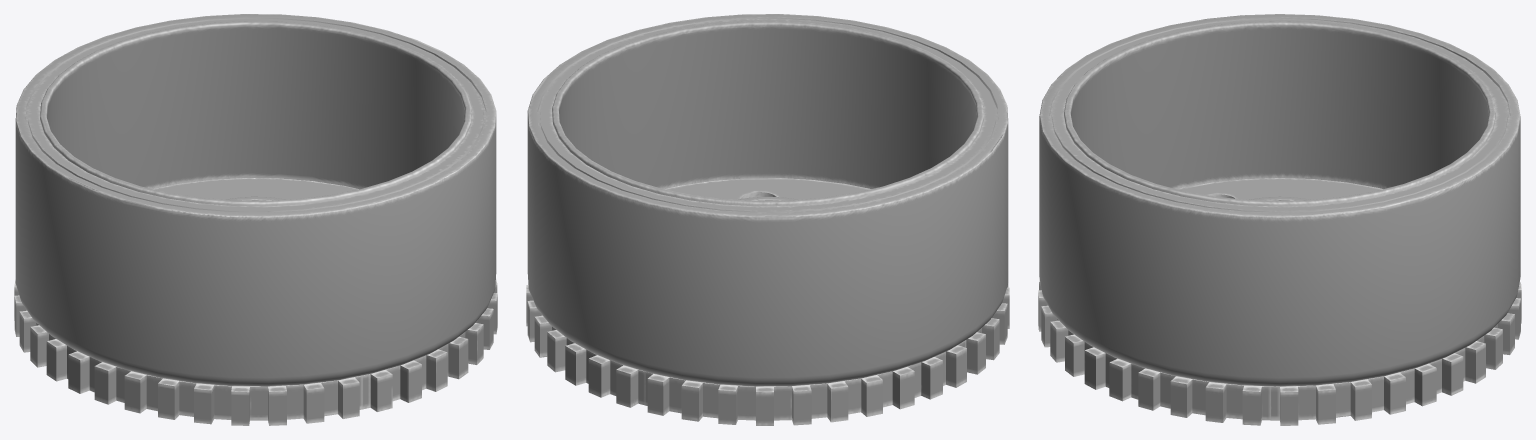
The model's file is flywheel.glb.
The picture shows the model from 3 angles, left to right: view 1: azimuth 30°, elevation 25°; view 2: azimuth 150°, elevation 25°; view 3: azimuth 270°, elevation 25°; orthographic projection.
Visible parts, largest first — view 1: magnet; view 2: magnet; view 3: magnet.
Boxes of the visible parts, <box> form: magnet: <box>14,14,497,425</box>; magnet: <box>526,14,1009,425</box>; magnet: <box>1038,14,1521,425</box>.
Size of the model in its own units: 0.6448 by 0.3132 by 0.6448.
Materials: 1 (1 with a texture image).
